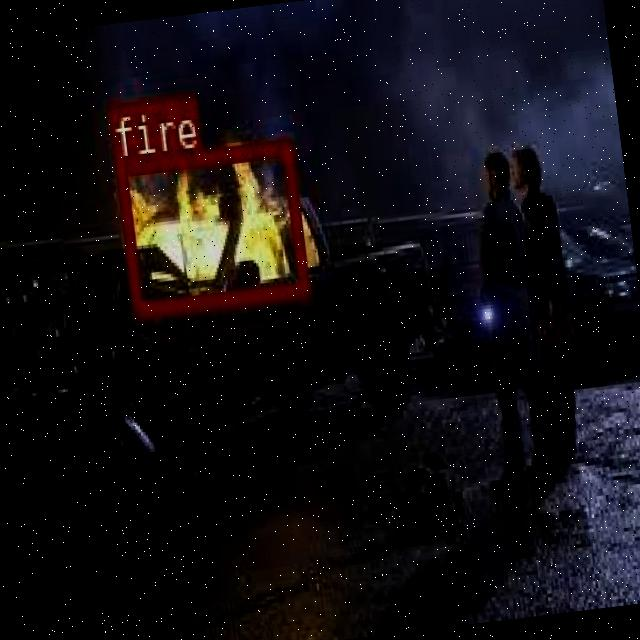fire: (112, 137, 308, 315)
